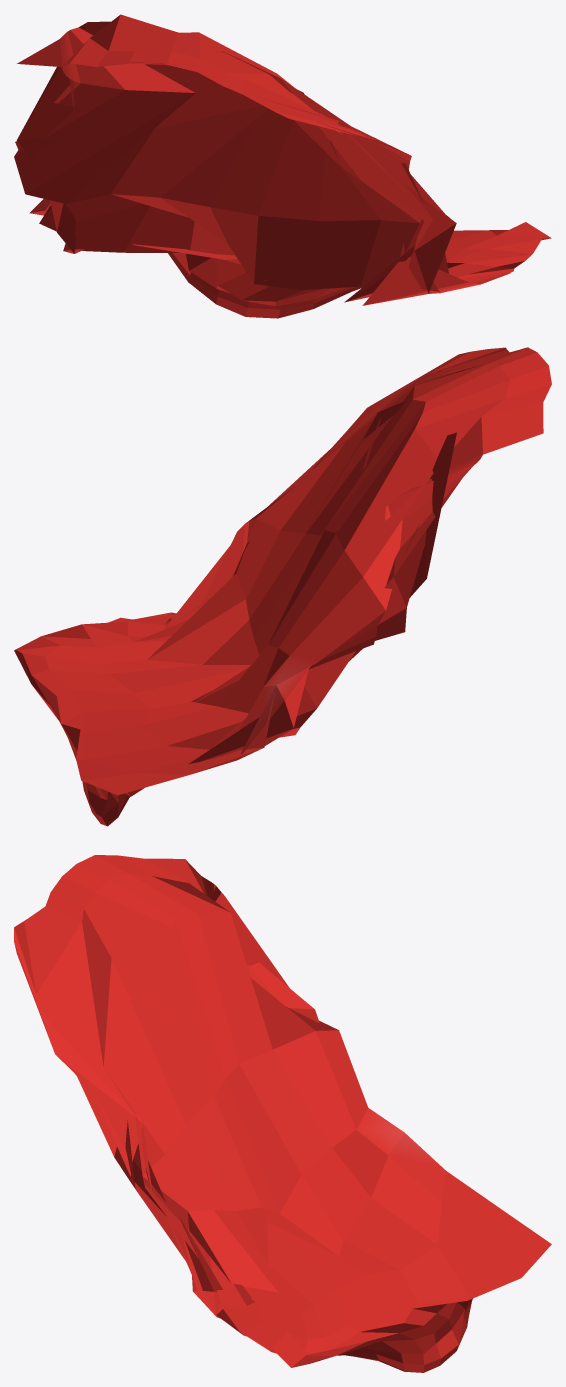
Rendered from Petal1_6.glb.
The picture shows the model from 3 angles, top to bottom: view 1: azimuth 30°, elevation 25°; view 2: azimuth 150°, elevation 25°; view 3: azimuth 270°, elevation 25°; orthographic projection. The views are drawn at different scales.
Visible parts, largest first — view 1: Cube.006; view 2: Cube.006; view 3: Cube.006.
Boxes of the visible parts, x1=… form: Cube.006: x1=14, y1=14, x2=551, y2=318; Cube.006: x1=14, y1=347, x2=551, y2=826; Cube.006: x1=14, y1=855, x2=551, y2=1372.
Bounding box in the file's own units: 27.19 × 21.64 × 27.48.
